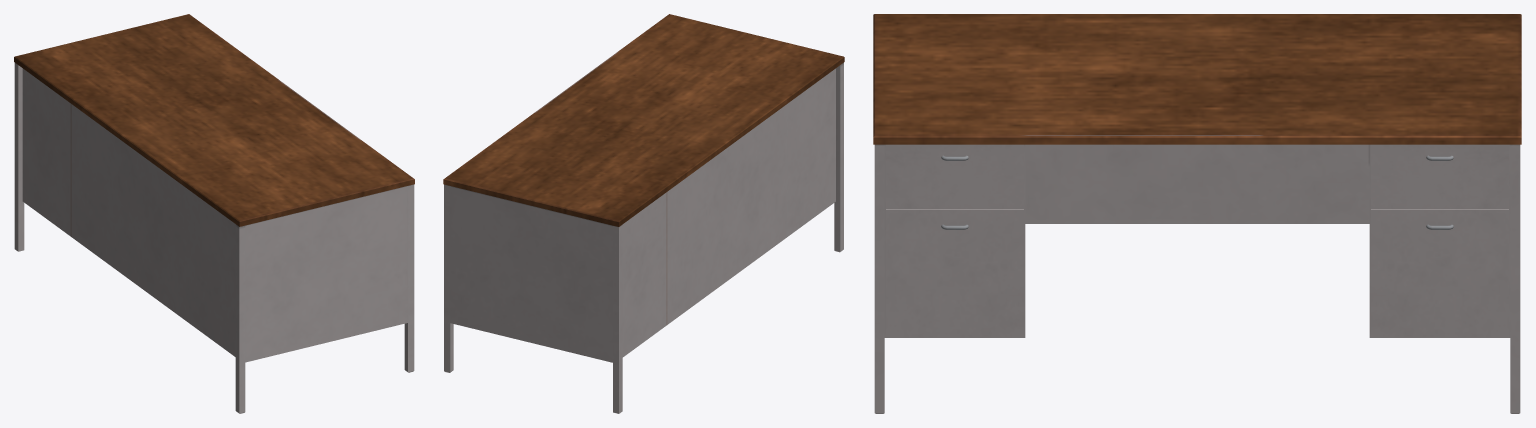
Rendered from office_desk02.glb.
3 views of the same model, side by side, from view 1: azimuth 30°, elevation 25°; view 2: azimuth 150°, elevation 25°; view 3: azimuth 270°, elevation 25° (orthographic). The views are drawn at different scales.
Visible parts, largest first — view 1: Prop.office_desk02; view 2: Prop.office_desk02; view 3: Prop.office_desk02.
Boxes of the visible parts, x1,y1,x2,y2 form: Prop.office_desk02: (14,14,414,413); Prop.office_desk02: (443,14,844,413); Prop.office_desk02: (873,14,1521,413).
Bounding box in the file's own units: 0.75 × 0.7912 × 1.67.
Materials: 2 (2 with a texture image).
